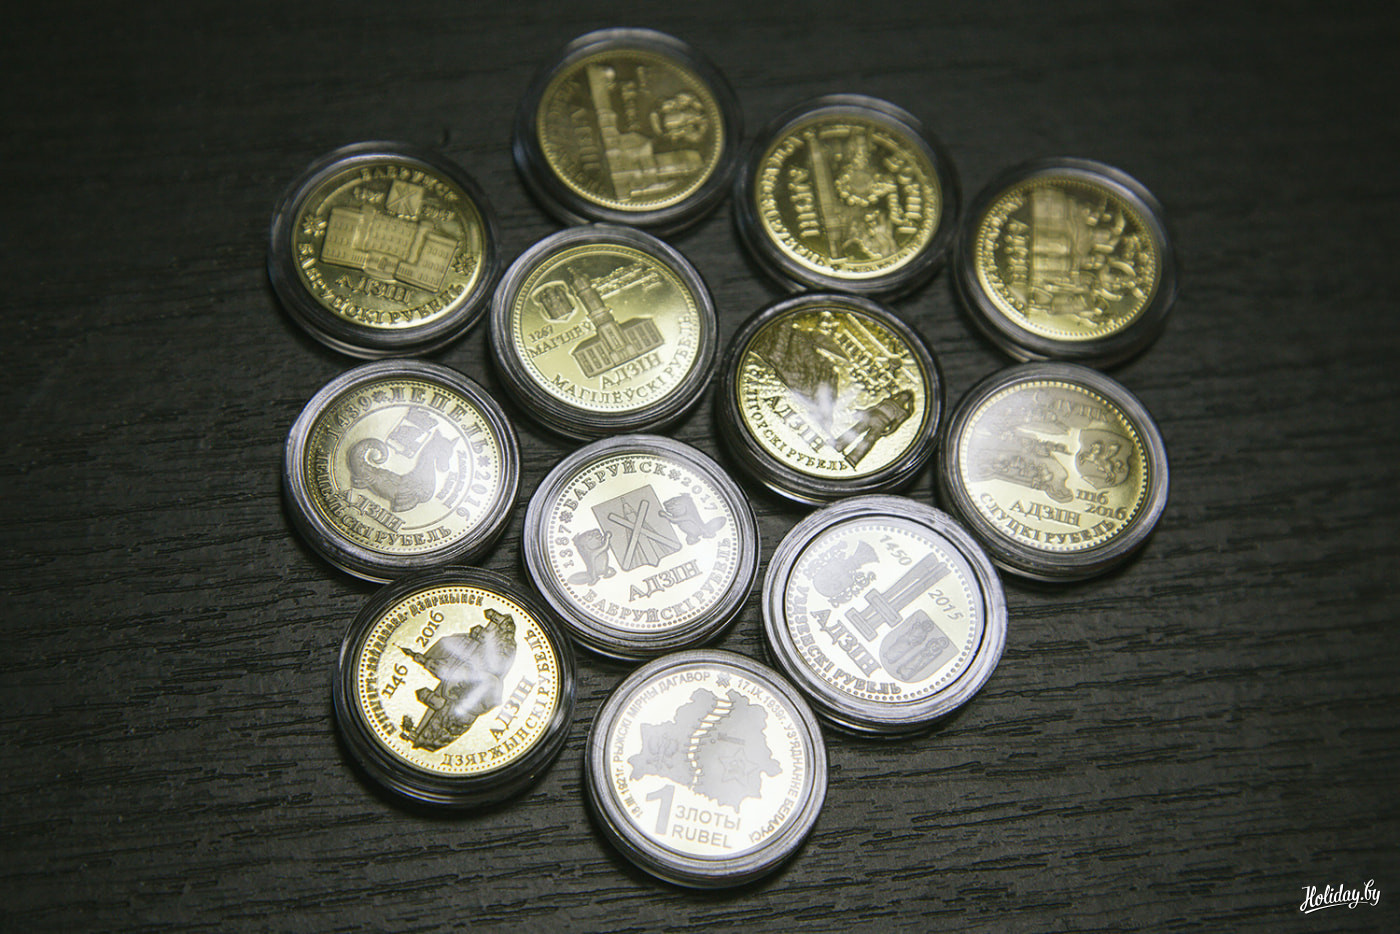coin: (752, 496, 1012, 739), (584, 647, 830, 889), (333, 577, 578, 811), (519, 432, 763, 657), (940, 365, 1177, 589), (265, 143, 497, 361), (283, 362, 516, 576), (501, 23, 738, 232), (493, 226, 720, 444), (954, 155, 1179, 369), (722, 291, 945, 501), (738, 94, 957, 301)
